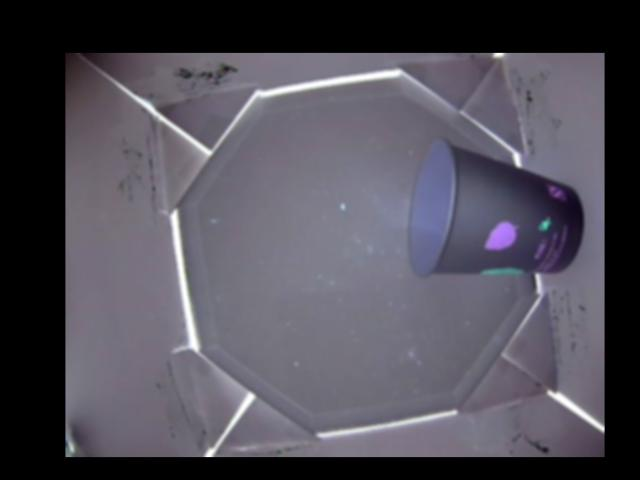Cup: (408, 137, 585, 278)
